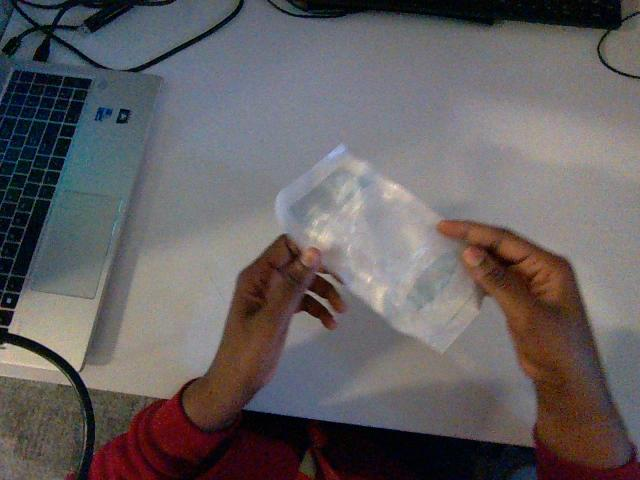gallipot: (276, 146, 479, 351)
